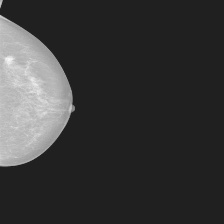Mass_1: (205, 155, 224, 172)
